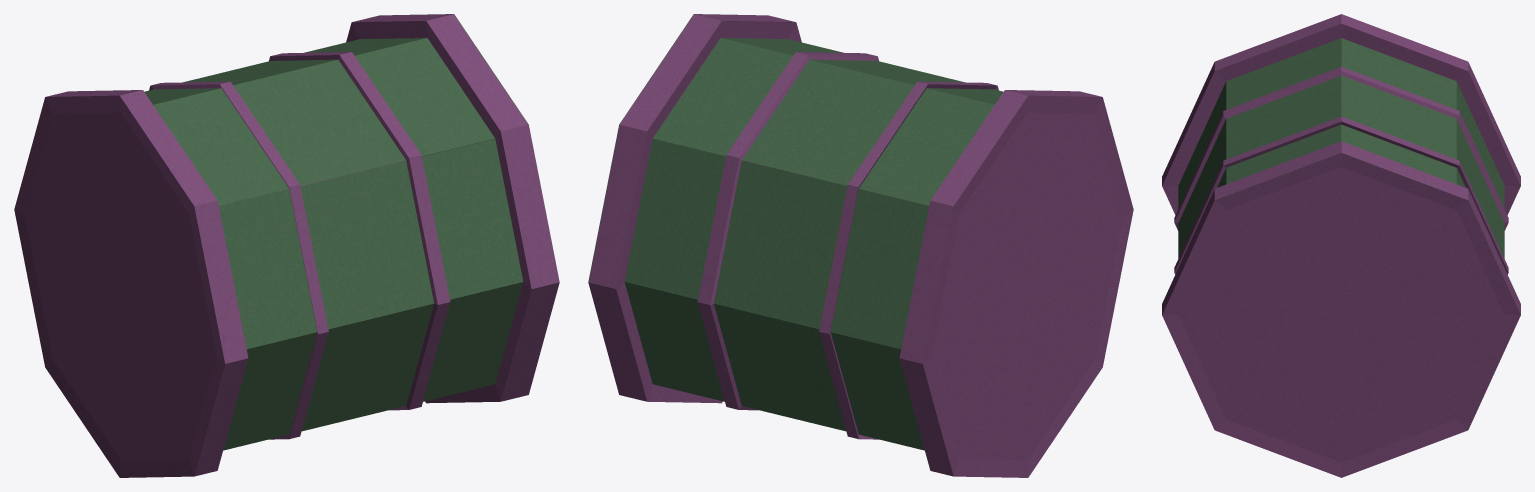
Rendered from barrel2.fbx.
3 renders of one model, left to right at view 1: azimuth 30°, elevation 25°; view 2: azimuth 150°, elevation 25°; view 3: azimuth 270°, elevation 25°, orthographic. The views are drawn at different scales.
Visible parts, largest first — view 1: Barrel.001; view 2: Barrel.001; view 3: Barrel.001.
Part boxes in pixels (left/top/right/bottom): Barrel.001: left=14, top=14, right=559, bottom=477; Barrel.001: left=588, top=14, right=1133, bottom=477; Barrel.001: left=1162, top=14, right=1520, bottom=477.
Bounding box in the file's own units: 654 × 714 × 714.
